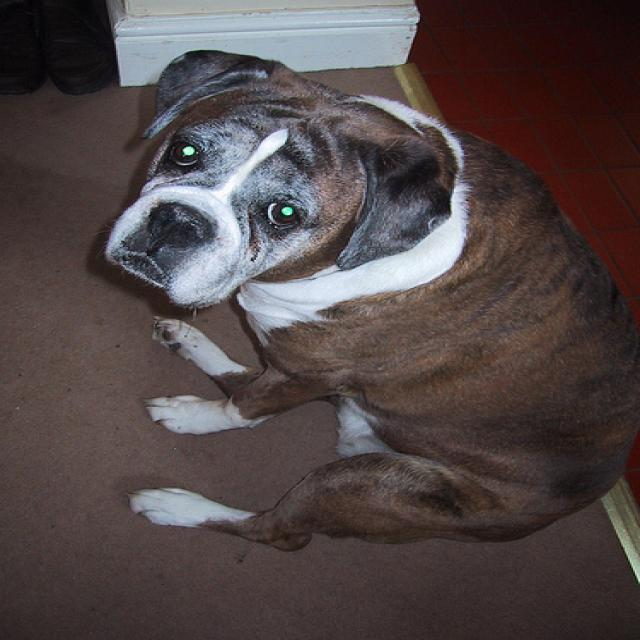dog-boxer: (94, 33, 637, 566)
